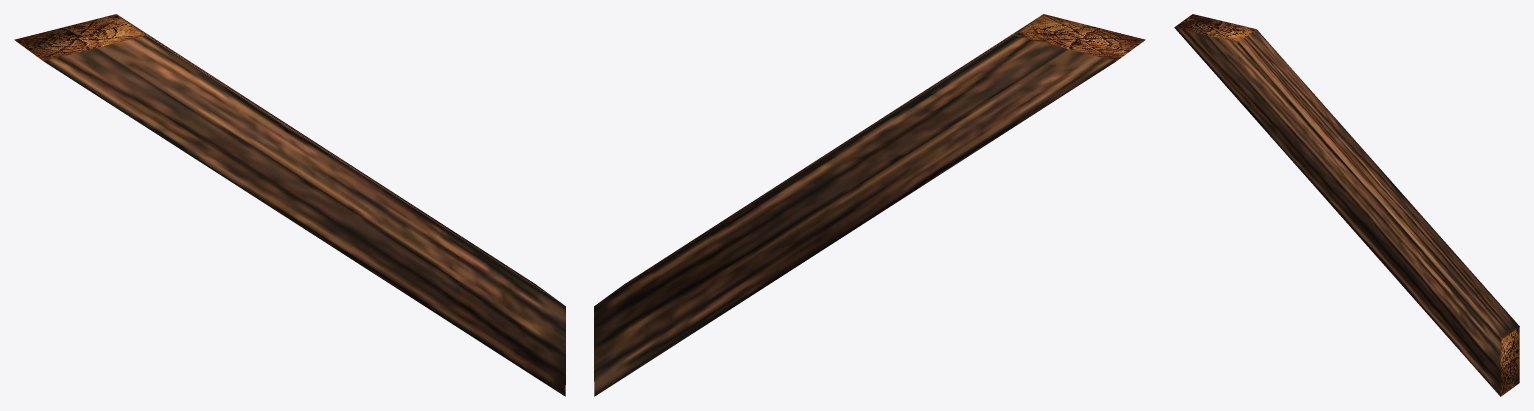
The model's file is LAKETOWN_WAREHOUSE1_ANIM_WH1_FALLBEAM9948__AI.fbx.
The picture shows the model from 3 angles, left to right: view 1: azimuth 30°, elevation 25°; view 2: azimuth 150°, elevation 25°; view 3: azimuth 330°, elevation 25°; orthographic projection. The views are drawn at different scales.
Visible parts, largest first — view 1: LAKETOWN_WAREHOUSE1_ANIM_WH1_FALLBEAM9948__AI; view 2: LAKETOWN_WAREHOUSE1_ANIM_WH1_FALLBEAM9948__AI; view 3: LAKETOWN_WAREHOUSE1_ANIM_WH1_FALLBEAM9948__AI.
Boxes of the visible parts, box(x1,y1,x2,y2) form: LAKETOWN_WAREHOUSE1_ANIM_WH1_FALLBEAM9948__AI: box(14, 14, 565, 396); LAKETOWN_WAREHOUSE1_ANIM_WH1_FALLBEAM9948__AI: box(594, 14, 1145, 396); LAKETOWN_WAREHOUSE1_ANIM_WH1_FALLBEAM9948__AI: box(1174, 14, 1519, 396).
Bounding box in the file's own units: 17647 × 14970 × 1784.
Materials: 2 (2 with a texture image).
